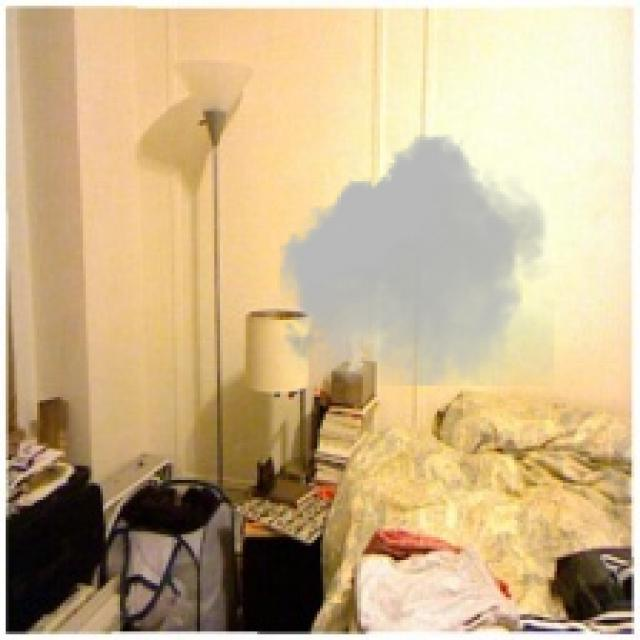Smoke: (274, 134, 554, 386)
